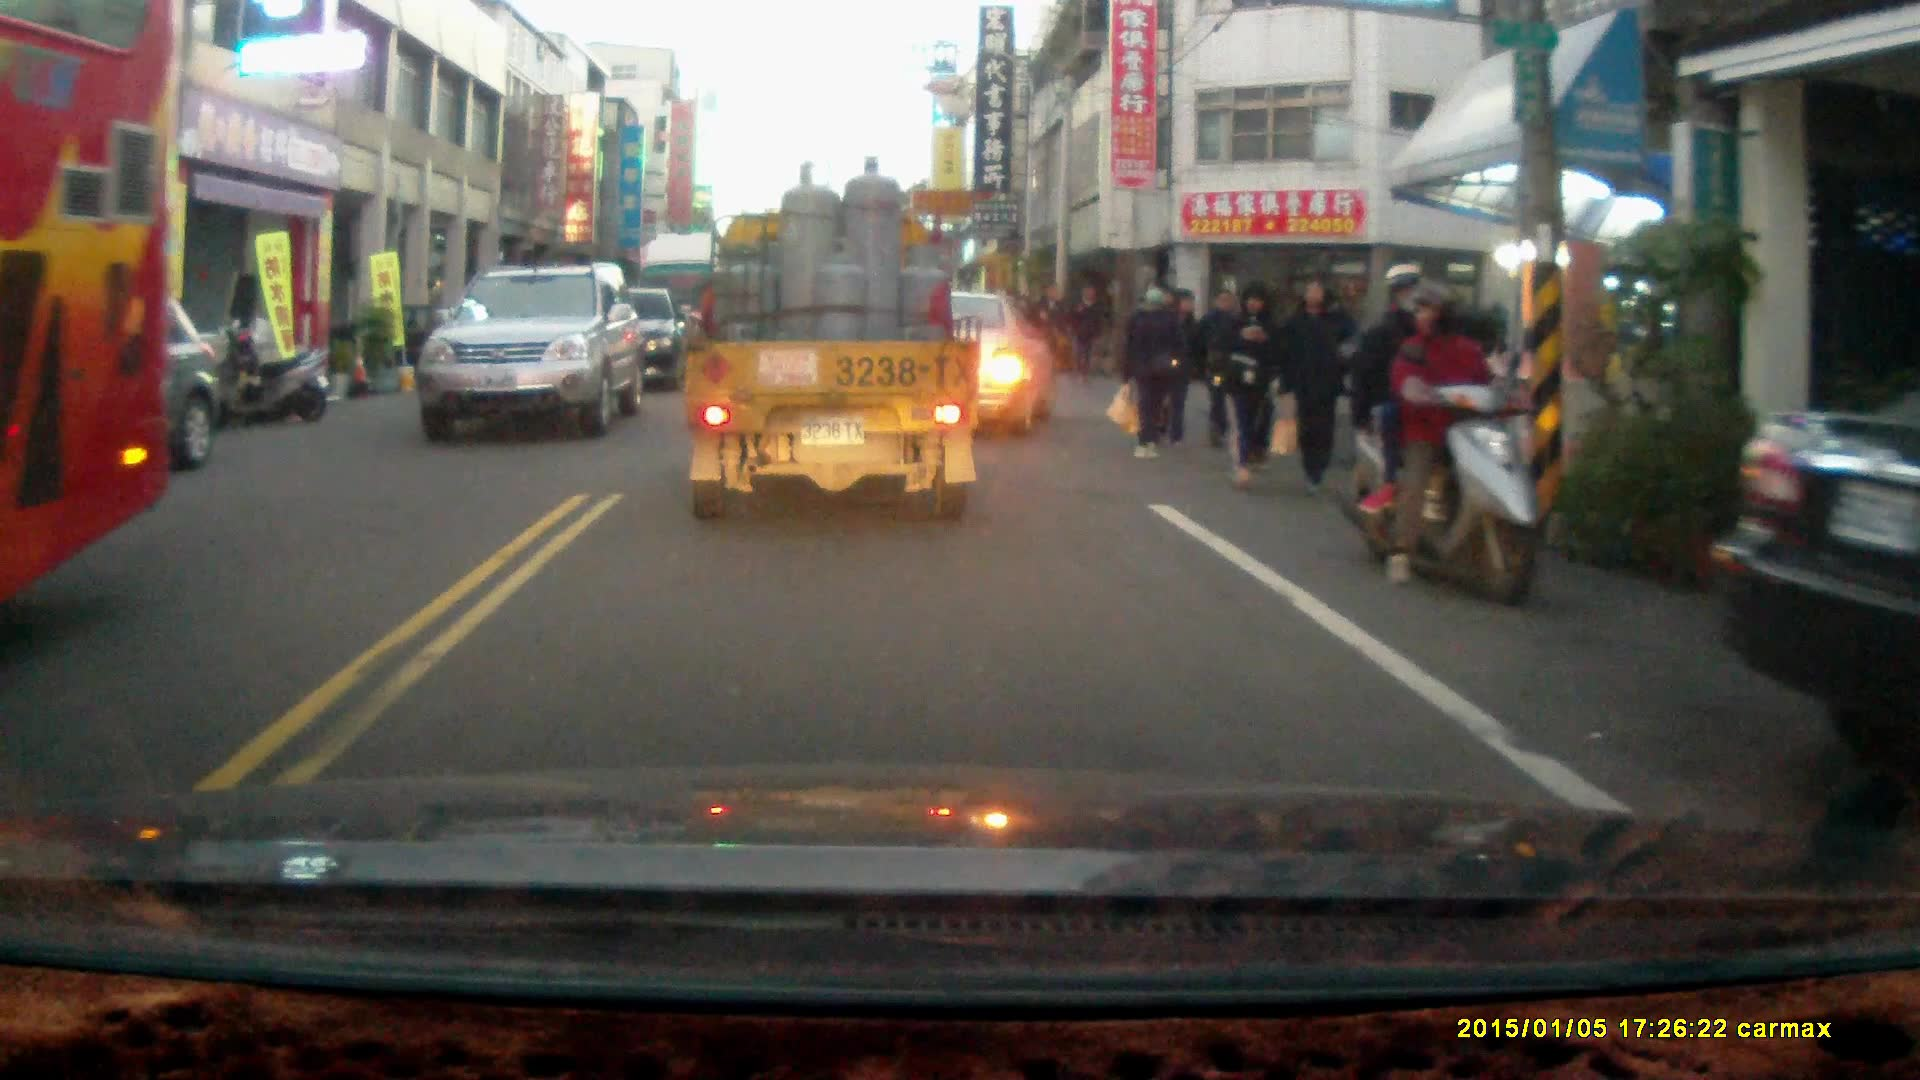pedestrian: (1270, 277, 1354, 490), (1214, 278, 1280, 486), (1120, 278, 1177, 459), (1191, 283, 1252, 441), (1154, 285, 1202, 443), (1033, 281, 1071, 383), (1067, 280, 1103, 384)
rider: (1330, 256, 1541, 597)
vehicle: (678, 149, 981, 524), (1, 7, 181, 592), (1718, 381, 1920, 758), (422, 262, 648, 441), (822, 286, 1061, 439), (38, 286, 230, 468)
